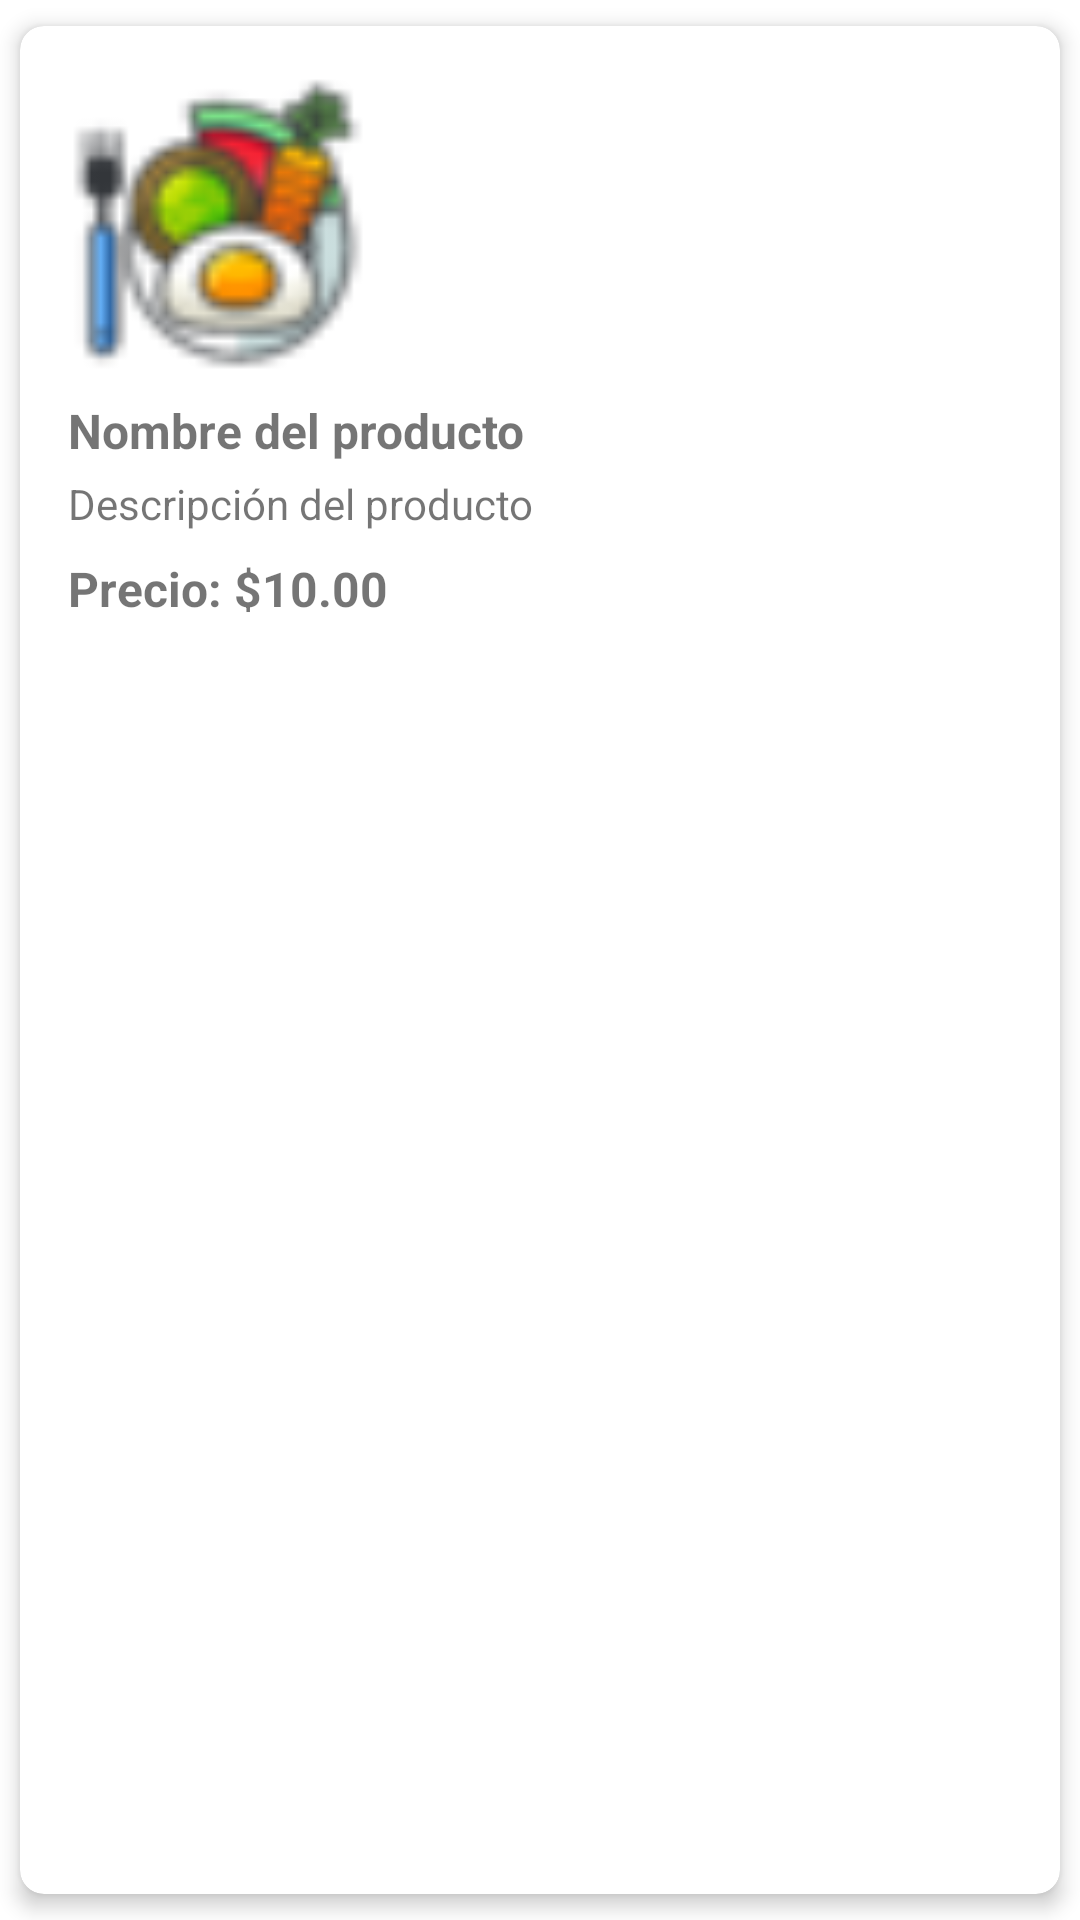

Point at icon controls on the screen. Image size 1080 x 1920, points as (x=x, y=y).
comida gen: (x=217, y=224)
